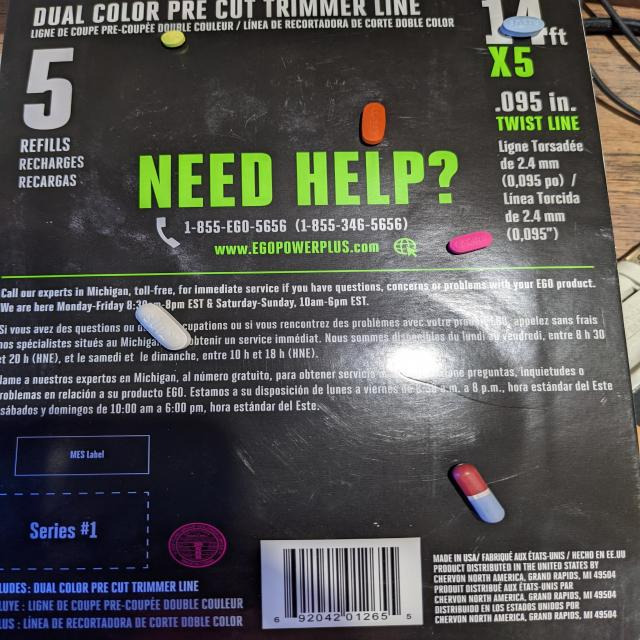non-organic waste: (451, 462, 506, 524), (134, 302, 192, 350), (360, 101, 388, 145), (448, 230, 493, 255), (499, 15, 545, 38), (161, 30, 187, 48)
